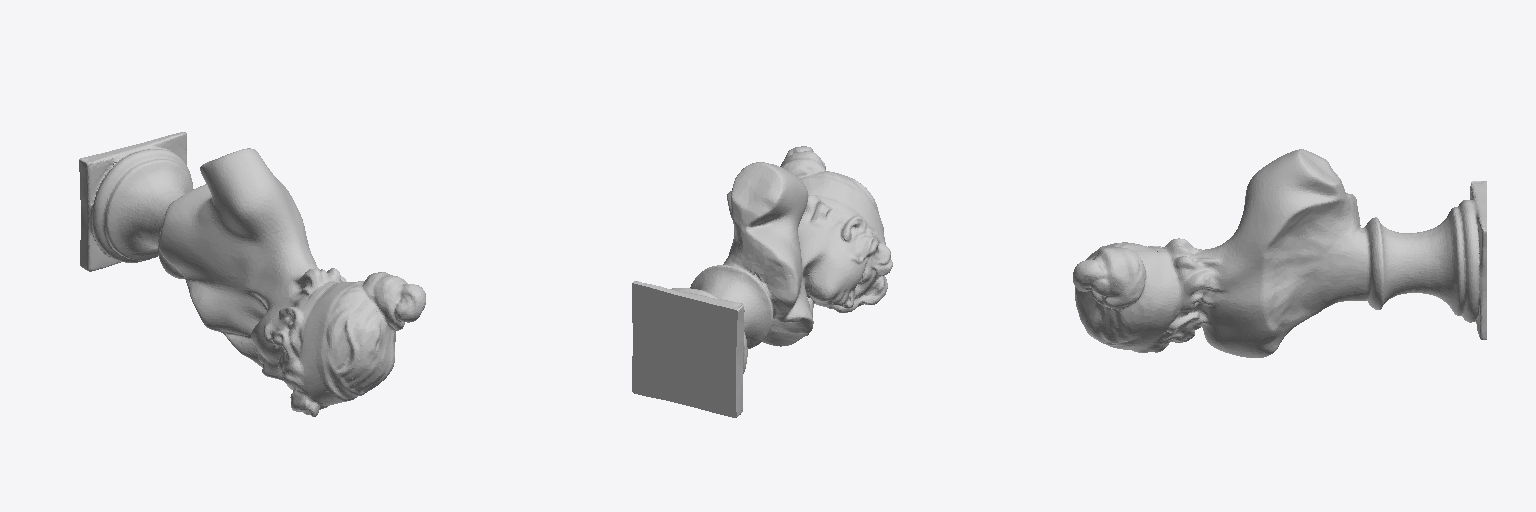
File: saphos.obj
The picture shows the model from 3 angles: view 1: azimuth 30°, elevation 25°; view 2: azimuth 150°, elevation 25°; view 3: azimuth 270°, elevation 25°; orthographic projection.
Visible parts, largest first — view 1: Saphos; view 2: Saphos; view 3: Saphos.
Part boxes in pixels (x1,y1,x2,y2): Saphos: (79,132,425,416); Saphos: (632,146,892,417); Saphos: (1073,149,1486,357).
Size of the model in its own units: 21.93 by 28.62 by 53.43.